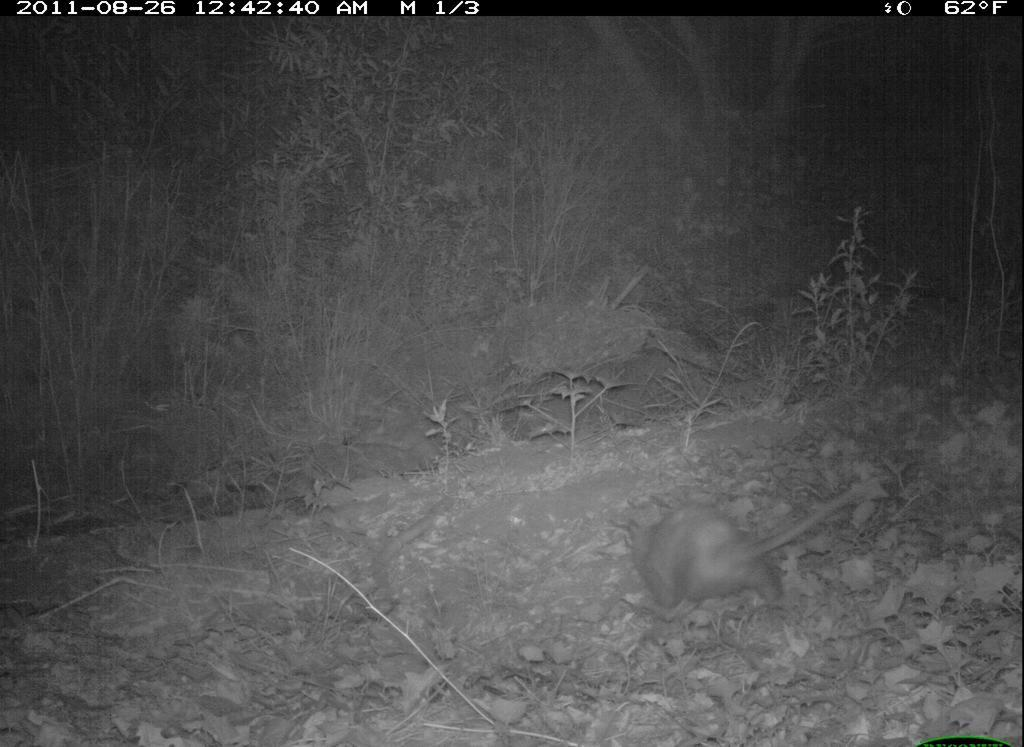opossum: (605, 475, 886, 626)
